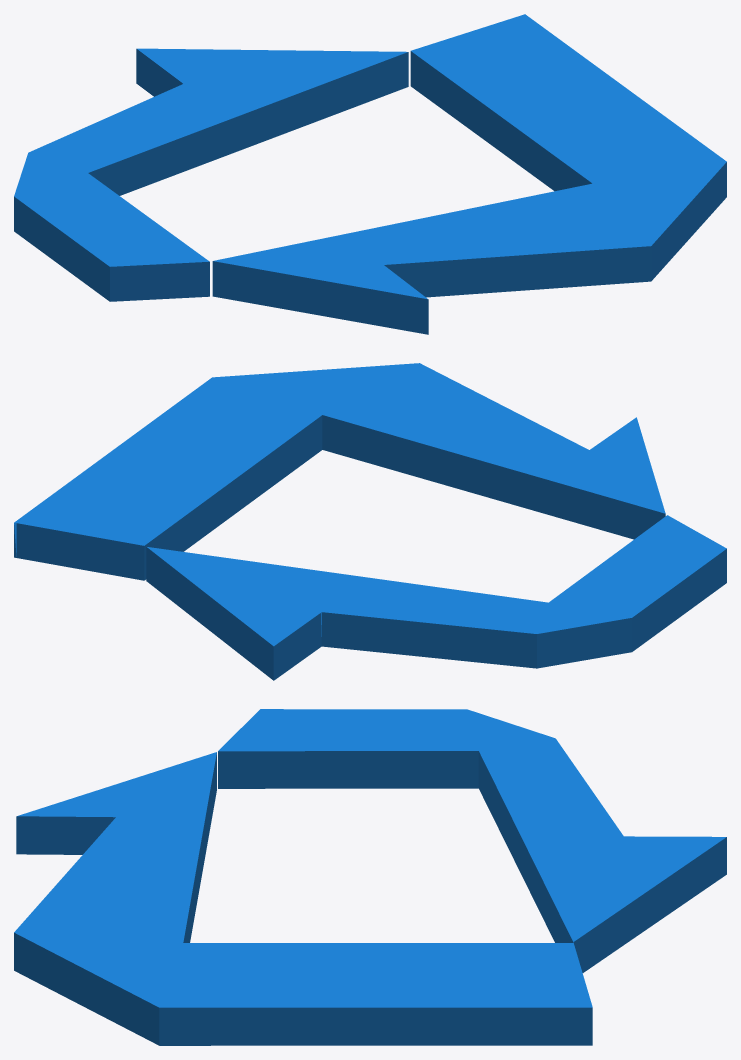
File: devops_icon.glb
3 views of the same model, one above another, from view 1: azimuth 30°, elevation 25°; view 2: azimuth 150°, elevation 25°; view 3: azimuth 270°, elevation 25° (orthographic). The views are drawn at different scales.
Visible parts, largest first — view 1: BézierCurve.001, BézierCurve; view 2: BézierCurve.001, BézierCurve; view 3: BézierCurve.001, BézierCurve.
Part boxes in pixels (box(x1,y1,x2,y2)): BézierCurve.001: box(212, 14, 726, 334); BézierCurve: box(14, 48, 408, 301); BézierCurve.001: box(14, 363, 665, 580); BézierCurve: box(146, 515, 726, 680); BézierCurve.001: box(14, 752, 592, 1045); BézierCurve: box(218, 709, 726, 972).
Size of the model in its own units: 2.5 by 0.1486 by 2.52.
